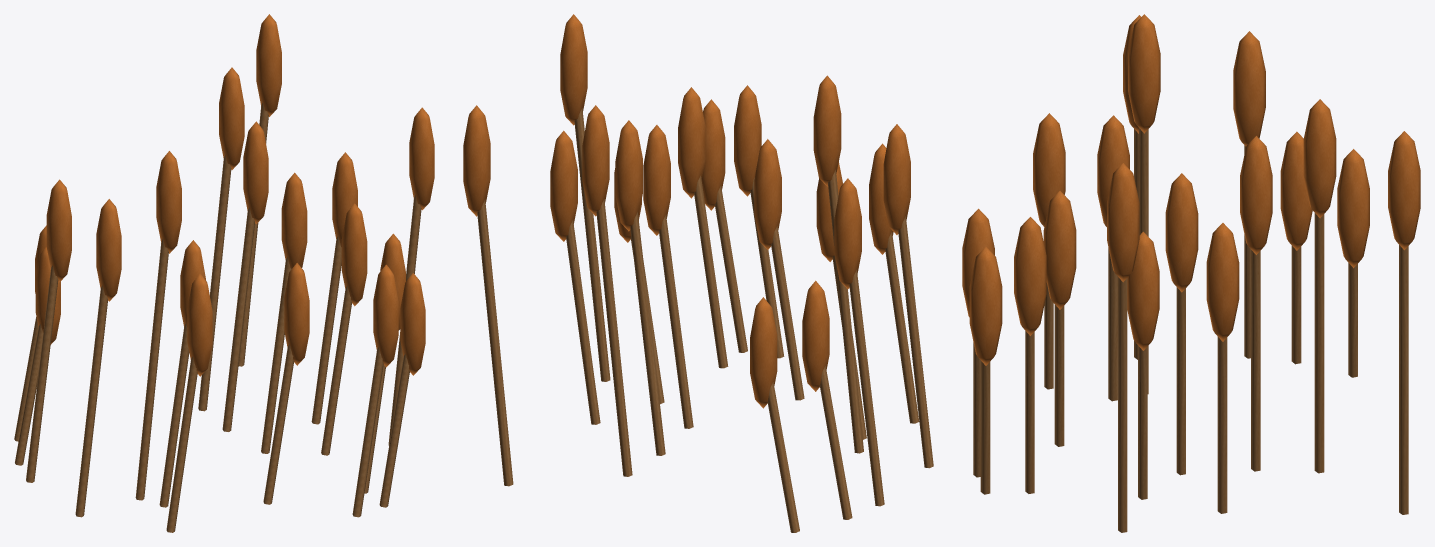
File: wheat.glb
The picture shows the model from 3 angles, left to right: view 1: azimuth 30°, elevation 25°; view 2: azimuth 150°, elevation 25°; view 3: azimuth 270°, elevation 25°; orthographic projection. The views are drawn at different scales.
Parts seen in each view (by area): view 1: wheat; view 2: wheat; view 3: wheat.
Part boxes in pixels (box(x1,y1,x2,y2)): wheat: box(14, 14, 434, 532); wheat: box(463, 14, 933, 532); wheat: box(962, 14, 1420, 532).
Size of the model in its own units: 1.07 by 1 by 1.04.
2 materials, 2 textured.
